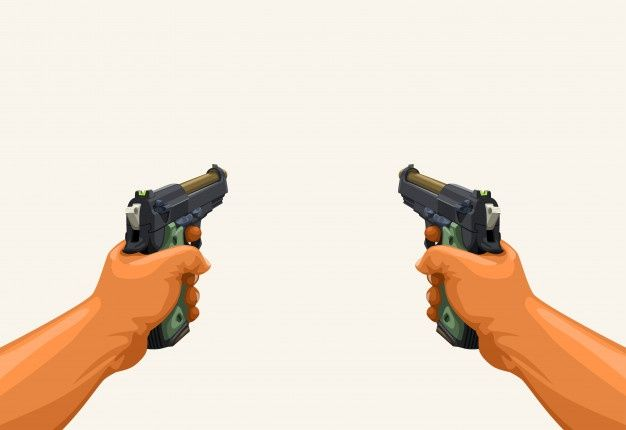gun: (120, 158, 235, 352), (395, 162, 505, 352)
